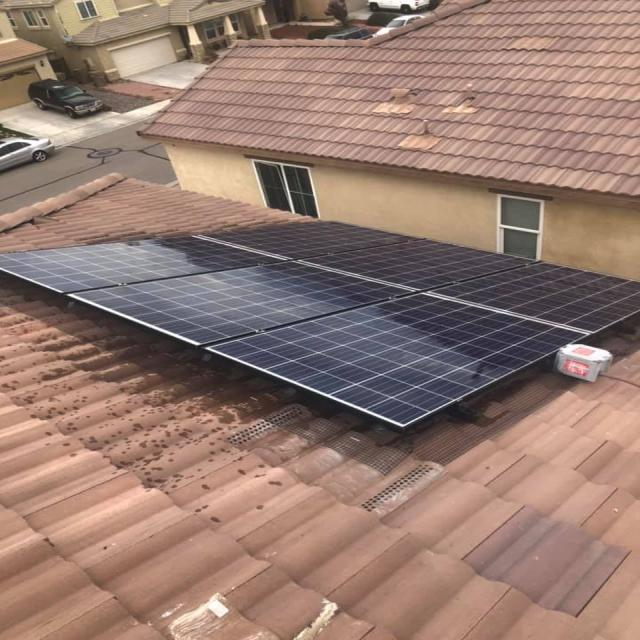clean-solar-panel: (2, 221, 638, 426)
